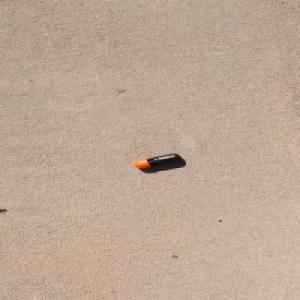PlasticPart: (133, 153, 181, 168)
